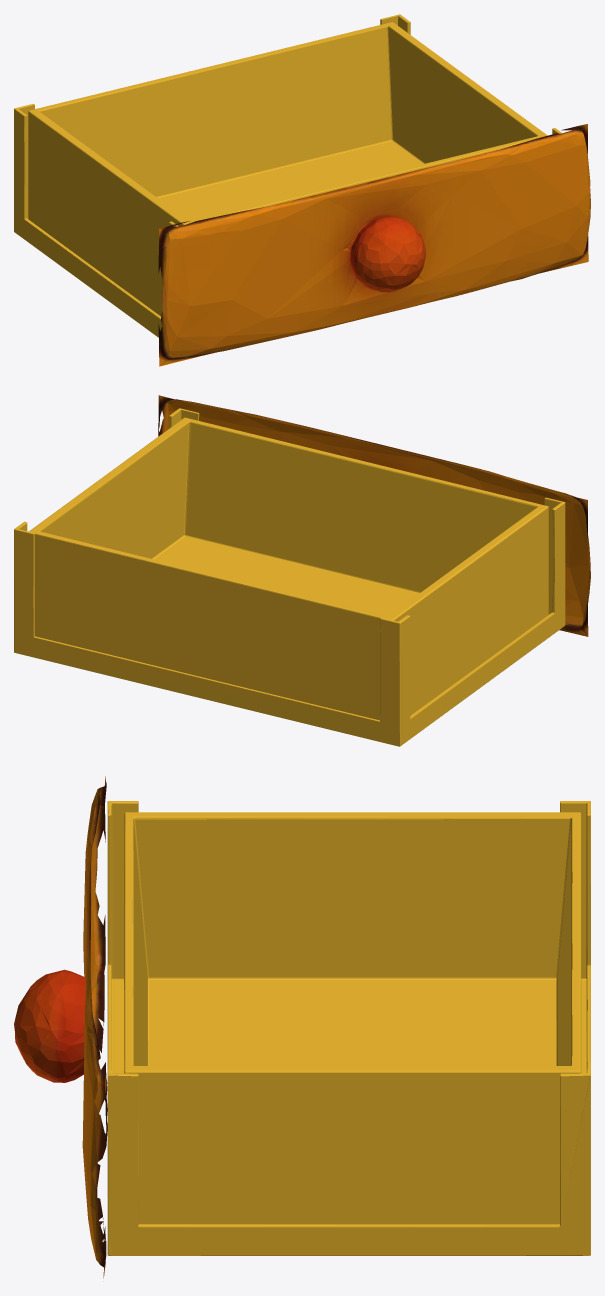
Rendered from drawer_middle.glb.
3 views of the same model, one above another, from view 1: azimuth 30°, elevation 25°; view 2: azimuth 150°, elevation 25°; view 3: azimuth 270°, elevation 25° (orthographic). The views are drawn at different scales.
Parts seen in each view (by area): view 1: prefab_drawer_body_2, source_front_cap_0; view 2: prefab_drawer_body_2, source_front_cap_0; view 3: prefab_drawer_body_2, source_front_cap_0.
Boxes of the visible parts, x1,y1,x2,y2 form: prefab_drawer_body_2: (14,14,561,337); source_front_cap_0: (158,124,590,366); prefab_drawer_body_2: (14,408,565,746); source_front_cap_0: (158,395,590,636); prefab_drawer_body_2: (107,801,590,1255); source_front_cap_0: (14,776,107,1278).
Size of the model in its own units: 0.3935 by 0.1205 by 0.314.
2 materials, 1 textured.
